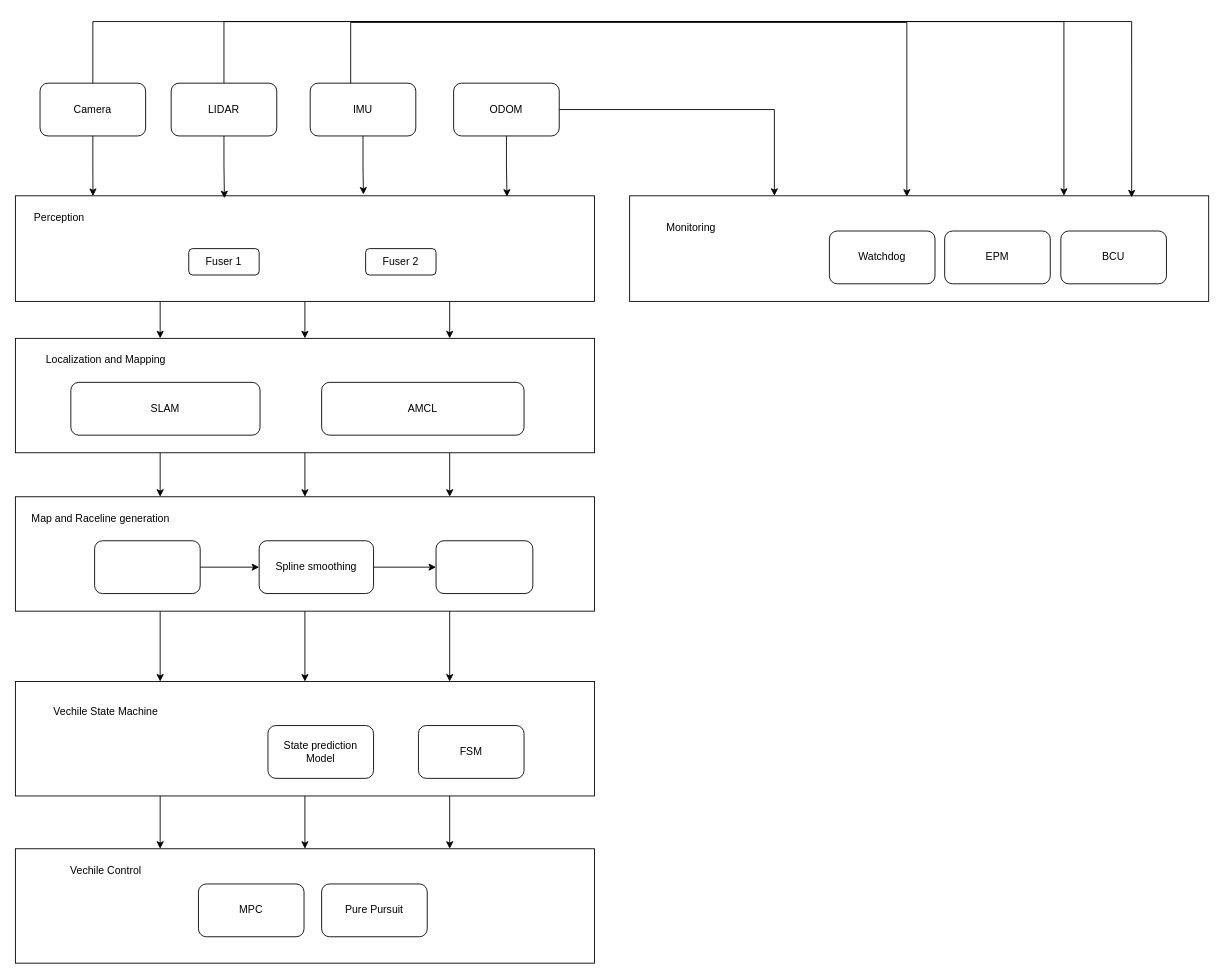
The diagram is 1224 pixels wide and 979 high, and some of its shapes have lost their labels. The box of each missing label's shape, as (x1, y1, x2, y2) in pixels:
Map midline generation: (94, 540, 200, 594)
Optimal racing line generation: (435, 540, 533, 594)
